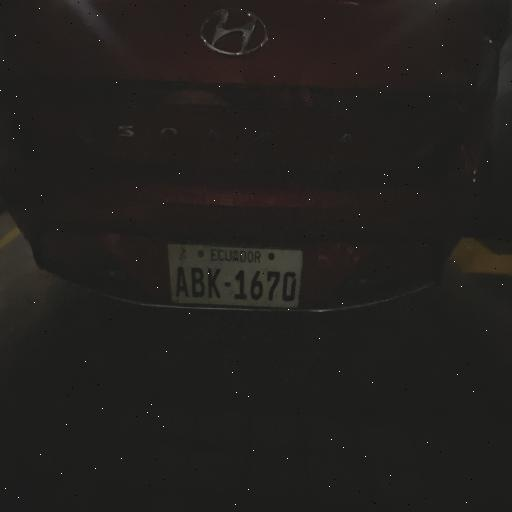license_plate: (189, 264, 206, 300), (208, 266, 224, 302), (174, 267, 190, 301), (248, 269, 264, 303), (282, 270, 298, 304), (232, 269, 248, 301), (266, 269, 280, 302)
